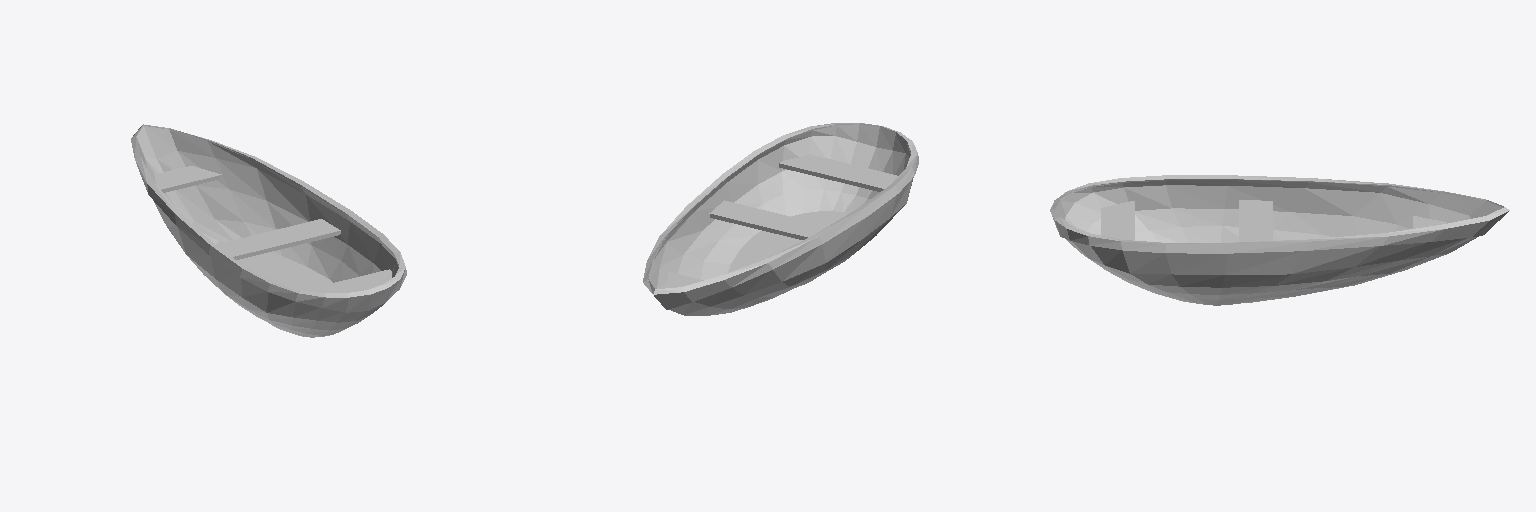
Rendered from Boat.obj.
3 views of the same model, side by side, from view 1: azimuth 30°, elevation 25°; view 2: azimuth 150°, elevation 25°; view 3: azimuth 270°, elevation 25° (orthographic).
Visible parts, largest first — view 1: Sphere, Cube.005, Cube.006, Cube.004; view 2: Sphere, Cube.005, Cube.004; view 3: Sphere, Cube.005, Cube.004.
Part boxes in pixels (x1,y1,x2,y2): Sphere: (131,124,406,337); Cube.005: (216,219,340,259); Cube.006: (154,166,221,192); Cube.004: (302,269,391,292); Sphere: (643,123,918,315); Cube.005: (709,200,827,239); Cube.004: (779,154,897,191); Sphere: (1050,175,1509,305); Cube.005: (1239,200,1272,241); Cube.004: (1101,201,1134,240).
Bounding box in the file's own units: 159 × 102 × 431.